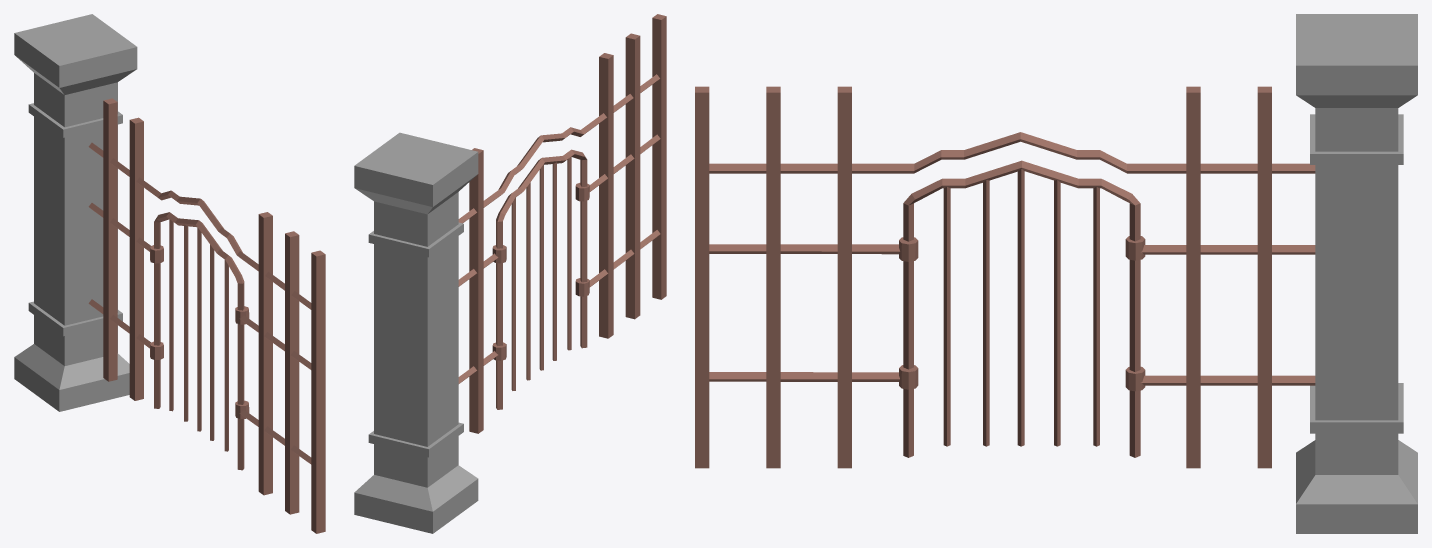
Rendered from poort-dicht.fbx.
The picture shows the model from 3 angles, left to right: view 1: azimuth 30°, elevation 25°; view 2: azimuth 150°, elevation 25°; view 3: azimuth 270°, elevation 25°; orthographic projection. The views are drawn at different scales.
Parts seen in each view (by area): view 1: deur.001; view 2: deur.001; view 3: deur.001.
Boxes of the visible parts, left/top/right/bottom form: deur.001: left=14, top=14, right=325, bottom=533; deur.001: left=354, top=14, right=666, bottom=533; deur.001: left=695, top=14, right=1417, bottom=533.
Bounding box in the file's own units: 167 × 706 × 987.
